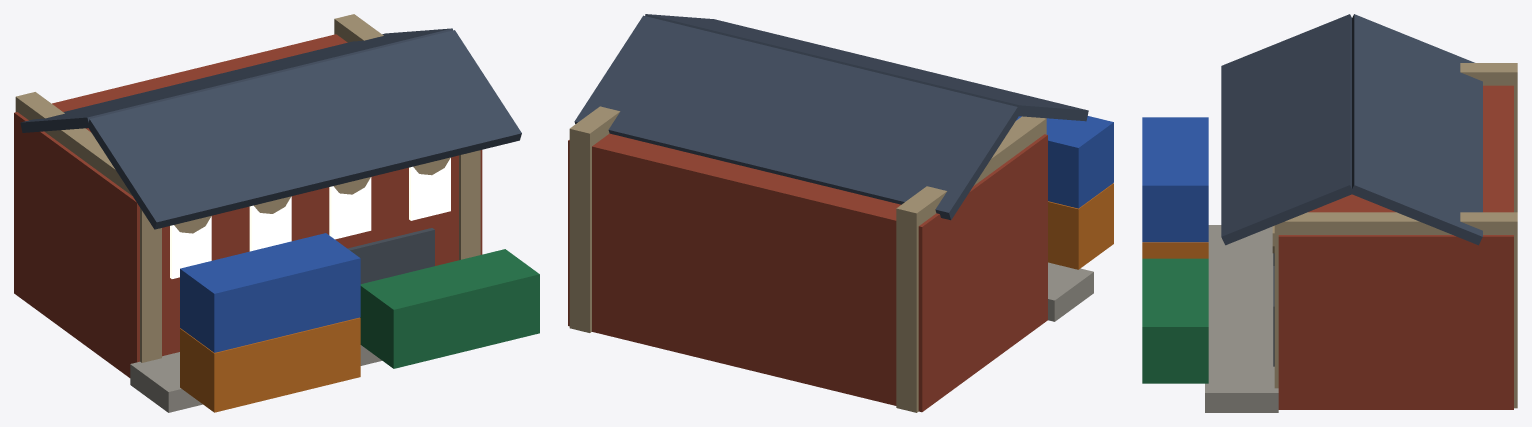
The model's file is s3-warehouse.glb.
3 views of the same model, side by side, from view 1: azimuth 30°, elevation 25°; view 2: azimuth 150°, elevation 25°; view 3: azimuth 270°, elevation 25° (orthographic). The views are drawn at different scales.
Parts seen in each view (by area): view 1: cw_paint, cw_glow; view 2: cw_paint; view 3: cw_paint.
Part boxes in pixels (bbox=[...]): cw_paint: bbox=[14, 14, 539, 412]; cw_glow: bbox=[170, 158, 450, 278]; cw_paint: bbox=[568, 14, 1113, 412]; cw_paint: bbox=[1142, 14, 1517, 412].
Bounding box in the file's own units: 5.5 × 3.44 × 5.1.
